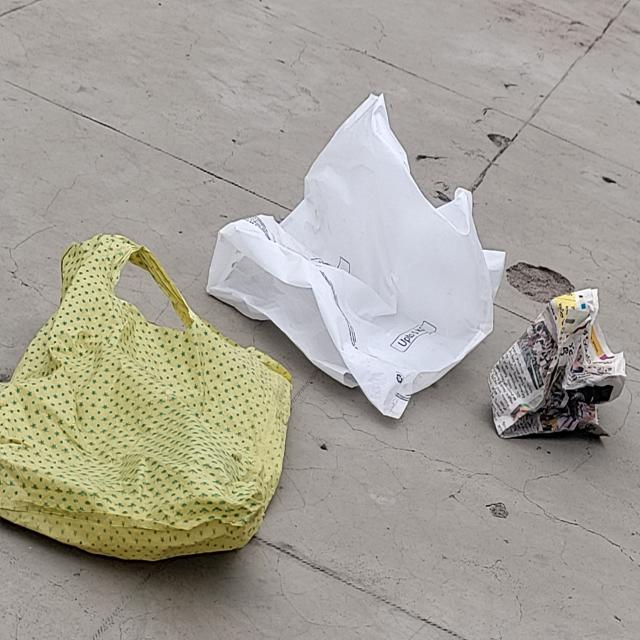dry: (209, 90, 507, 419), (1, 233, 291, 559), (488, 287, 628, 443)
